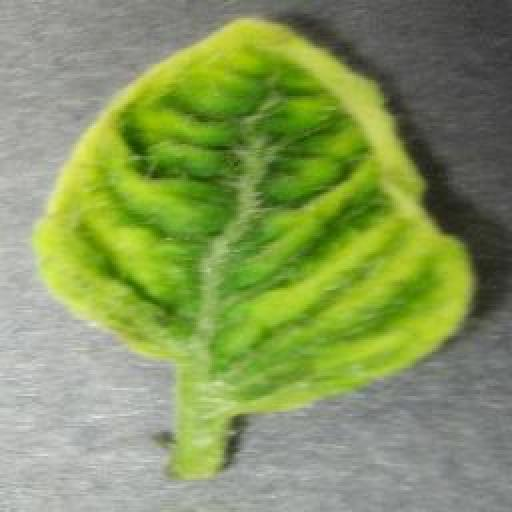disease_tomato: (32, 13, 480, 415)
